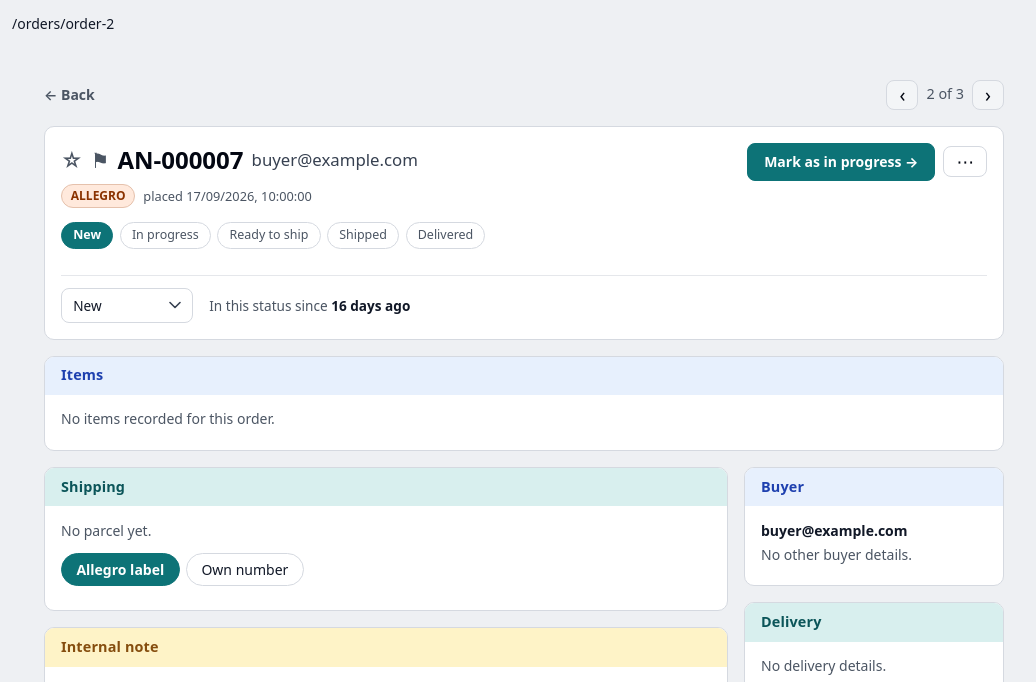
it: the order's own page › the arrows › move to the next and previous order, and back still leads to the list
Expected: the text "2 of 3" is shown, [926,84,964,105]
Click the button named "Next order": (988, 95) [972,80,1004,110]
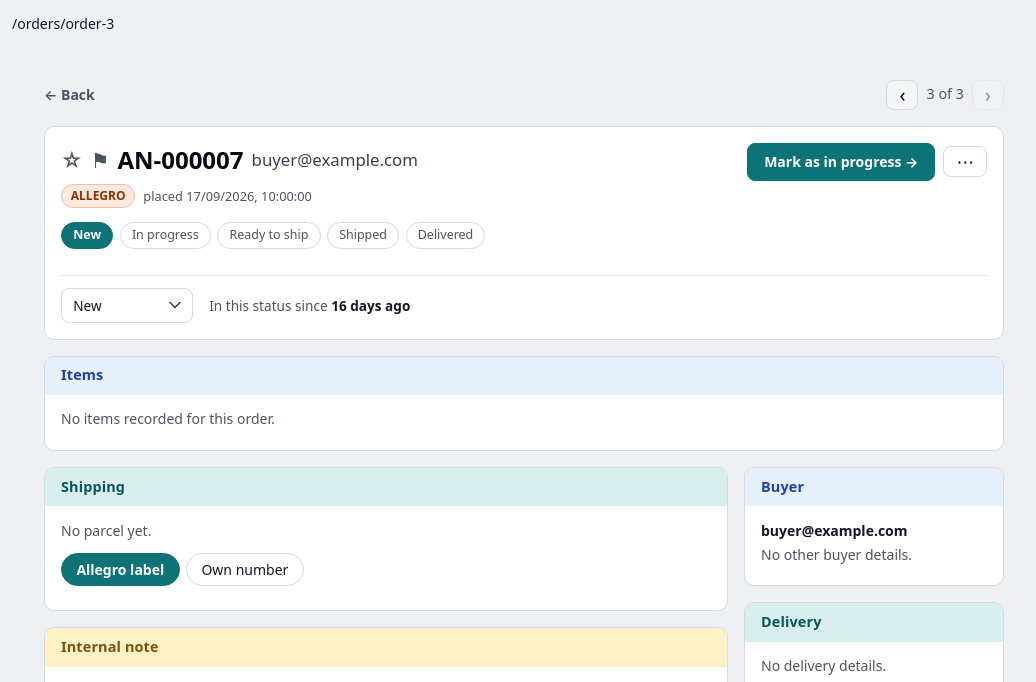
Expected: the text "3 of 3" is shown, [926,84,964,105]
Expected: the text with test id "where" reads "/orders/order-3", [12,14,114,33]
Click the button named "Previous order": (902, 95) [886,80,918,110]
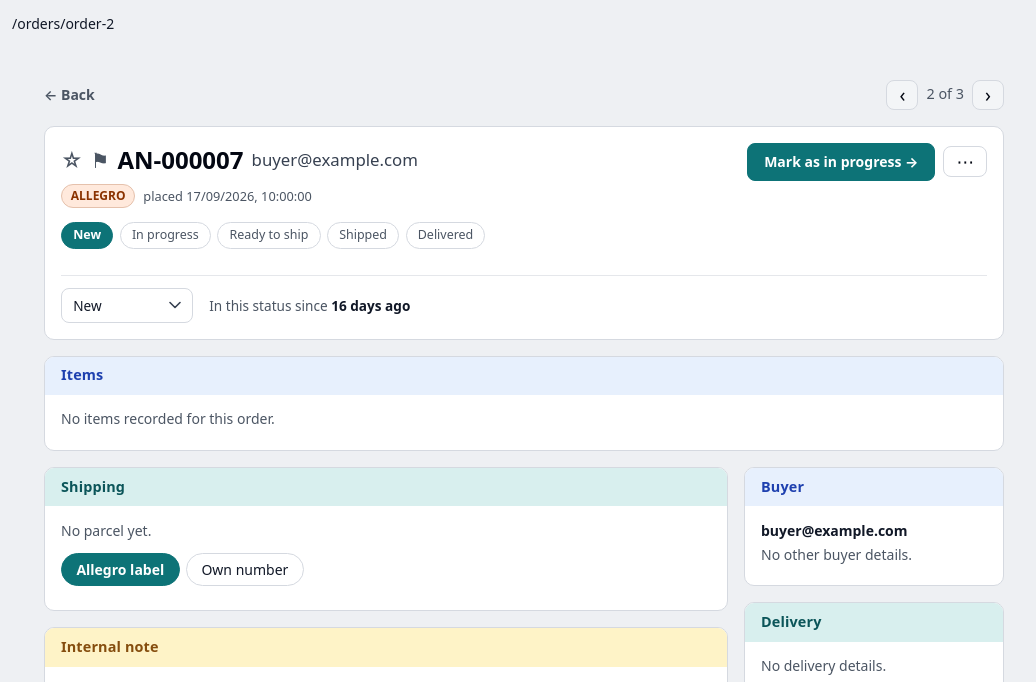
Expected: the text "2 of 3" is shown, [926,84,964,105]
Click the link "← Back": (69, 95) [44,85,95,105]
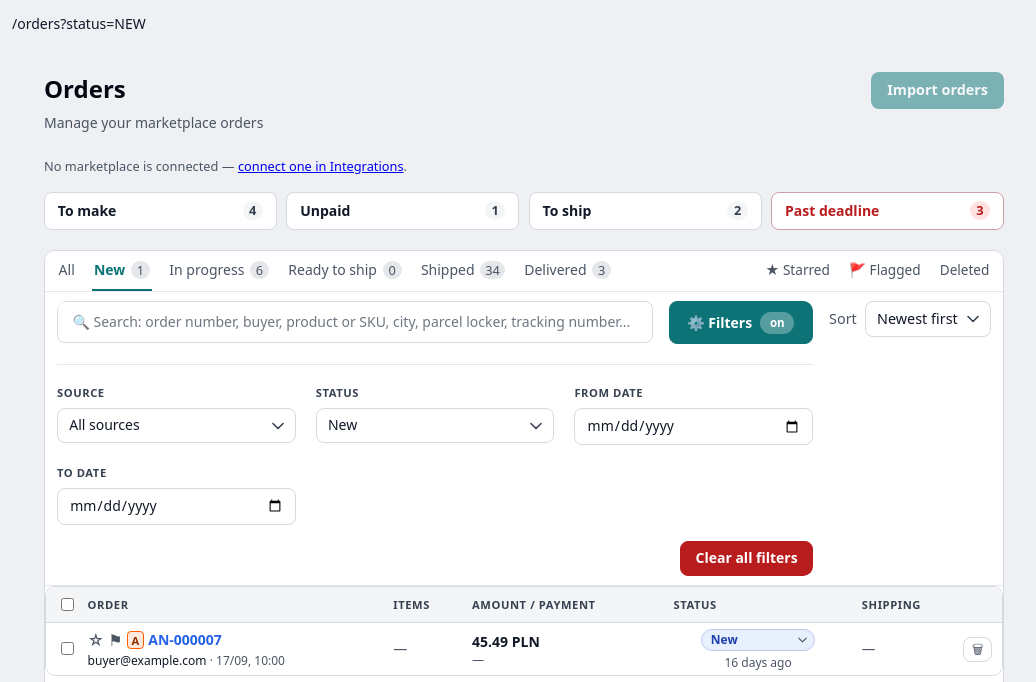
Expected: the text with test id "where" reads "/orders?status=NEW", [12,14,146,33]
